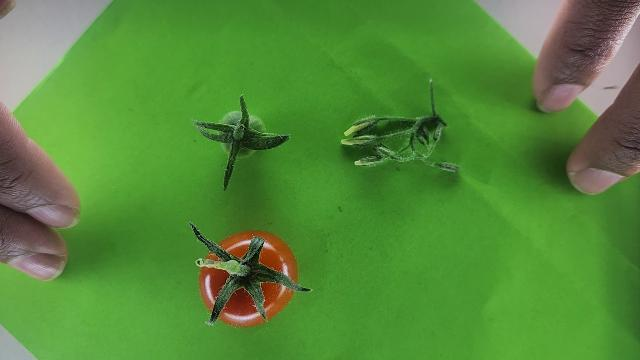Flower Bud: (433, 162, 460, 173), (341, 137, 364, 145), (355, 159, 377, 166)
Fruit Maturation: (219, 111, 266, 158)
Fully Grown: (198, 228, 299, 327)
